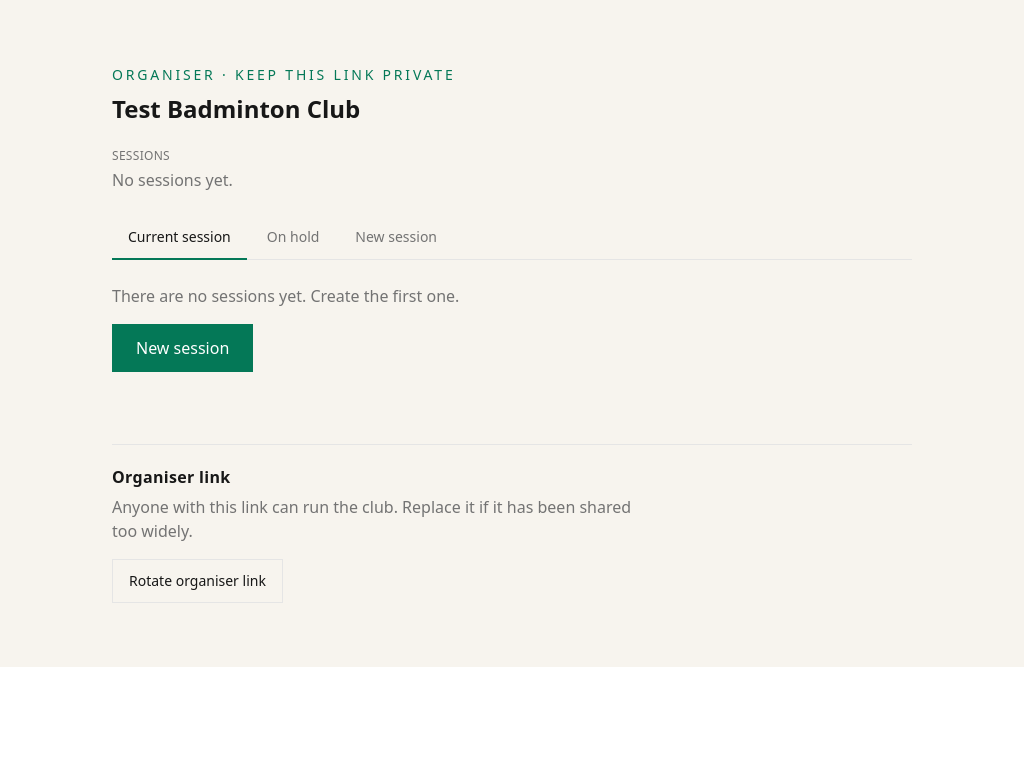
Test case: a Club with no Sessions yet › invites the first one, prefilled with the Club's defaults
Expected: the text "There are no sessions yet. Create the first one." is shown, [112, 285, 459, 307]
Click the button "New session": point(183, 348) [112, 324, 253, 372]
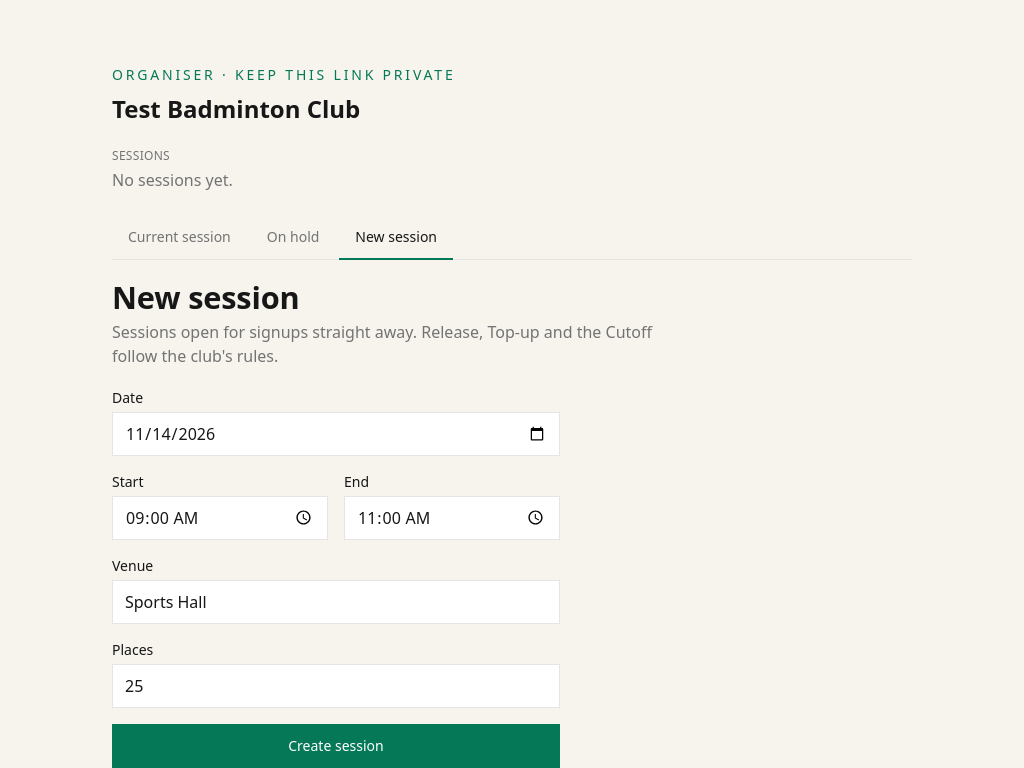
Expected: the date field labelled "Date" holds "2026-11-14", [112, 412, 560, 456]
Expected: the text "Sessions open for signups straight away" is shown, [112, 321, 652, 367]
